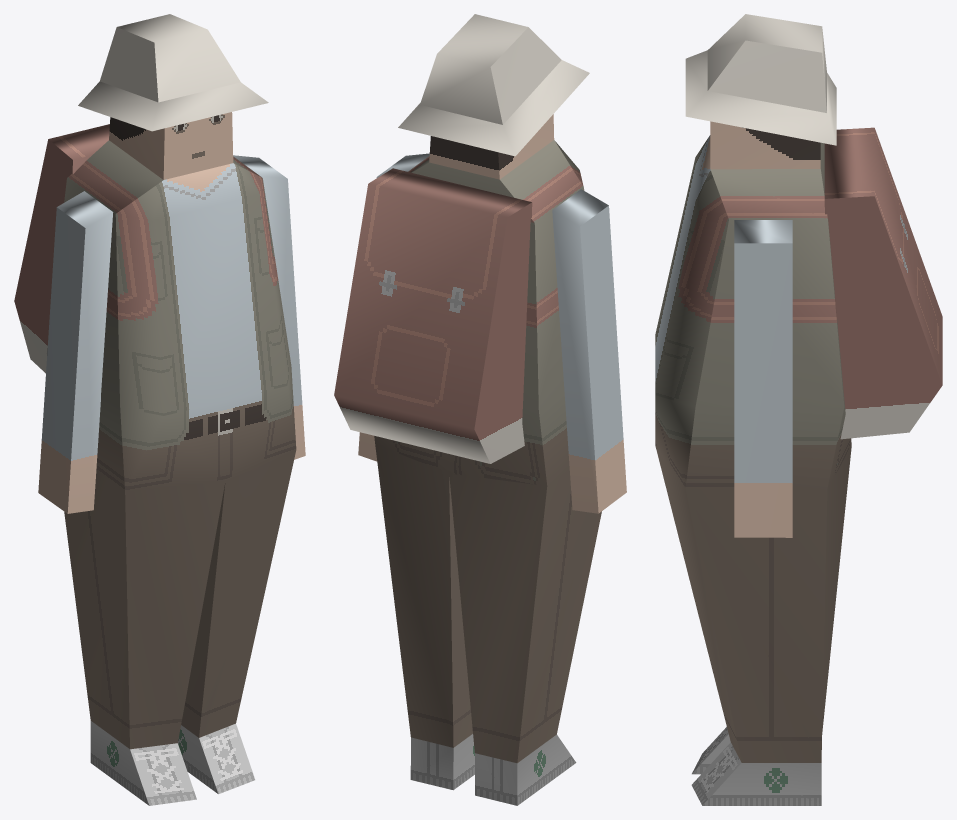
File: 0255_Alpinist.glb
3 views of the same model, side by side, from view 1: azimuth 30°, elevation 25°; view 2: azimuth 150°, elevation 25°; view 3: azimuth 270°, elevation 25° (orthographic).
Visible parts, largest first — view 1: part_0; view 2: part_0; view 3: part_0.
Part boxes in pixels (left/top/right/bottom): part_0: left=14, top=14, right=305, bottom=805; part_0: left=334, top=14, right=626, bottom=805; part_0: left=655, top=14, right=942, bottom=805.
Size of the model in its own units: 0.6013 by 1.78 by 0.6158.
1 material, 1 textured.
